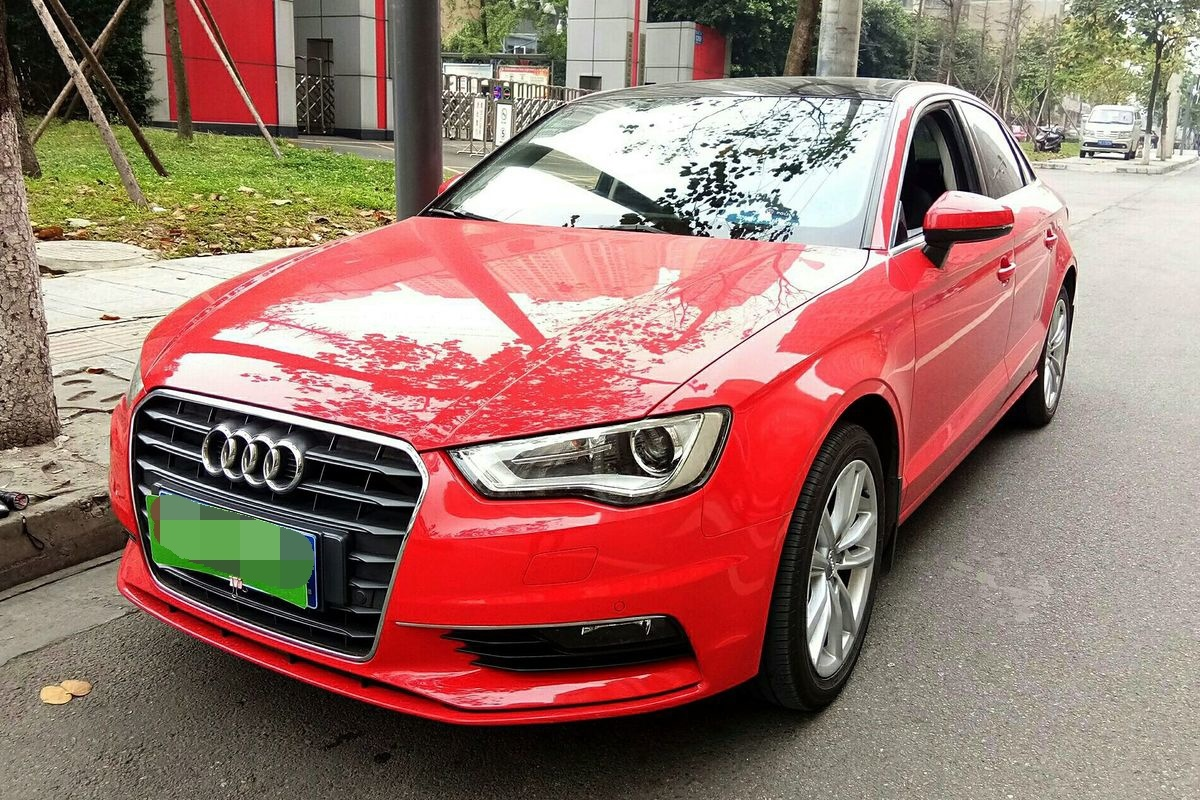family sedan: (108, 47, 1115, 710)
